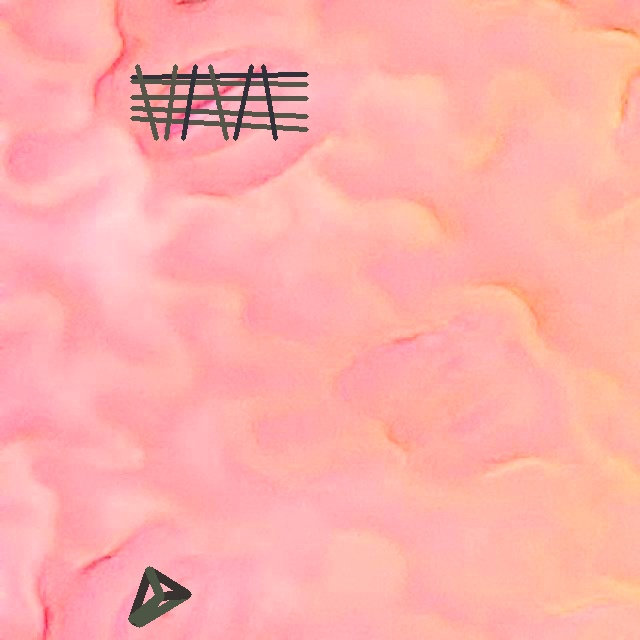close: (128, 566, 191, 627)
open: (131, 64, 308, 140)
